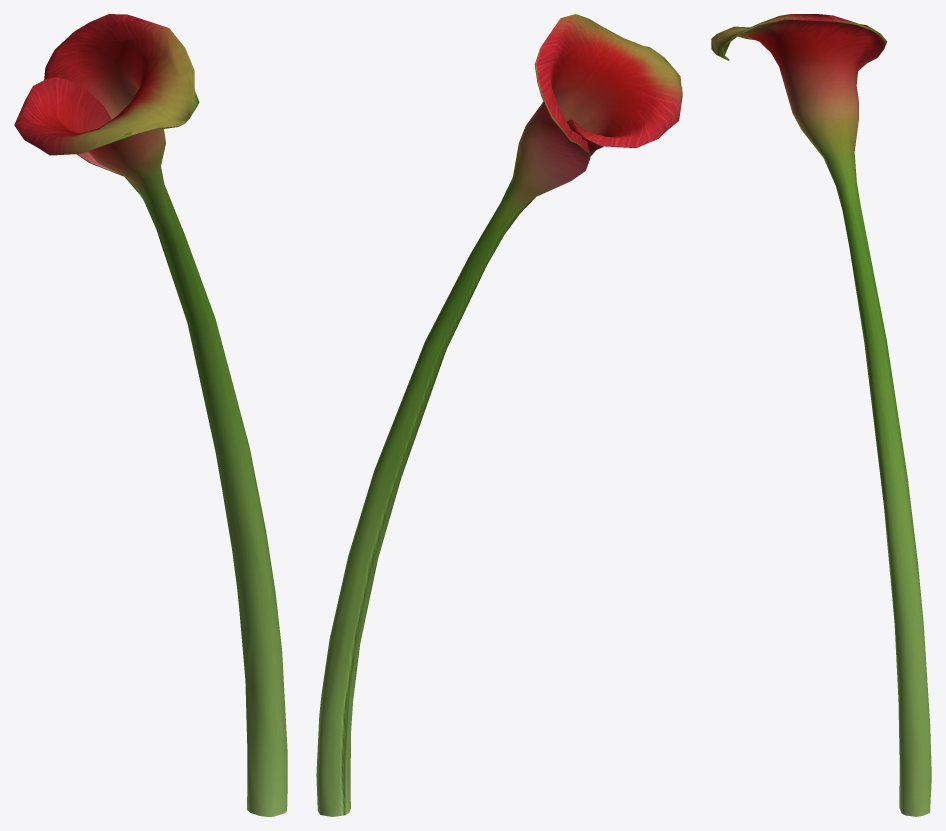
File: Flower.FBX
3 renders of one model, left to right at view 1: azimuth 30°, elevation 25°; view 2: azimuth 150°, elevation 25°; view 3: azimuth 270°, elevation 25°, orthographic. The views are drawn at different scales.
Parts seen in each view (by area): view 1: flower; view 2: flower; view 3: flower.
Part boxes in pixels (x1,y1,x2,y2): flower: (14, 14, 287, 816); flower: (316, 14, 682, 816); flower: (711, 14, 931, 816).
Size of the model in its own units: 17.09 by 44.55 by 12.34.
Materials: 1 (1 with a texture image).
